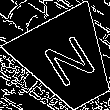N_SE: (35, 30, 100, 93)
